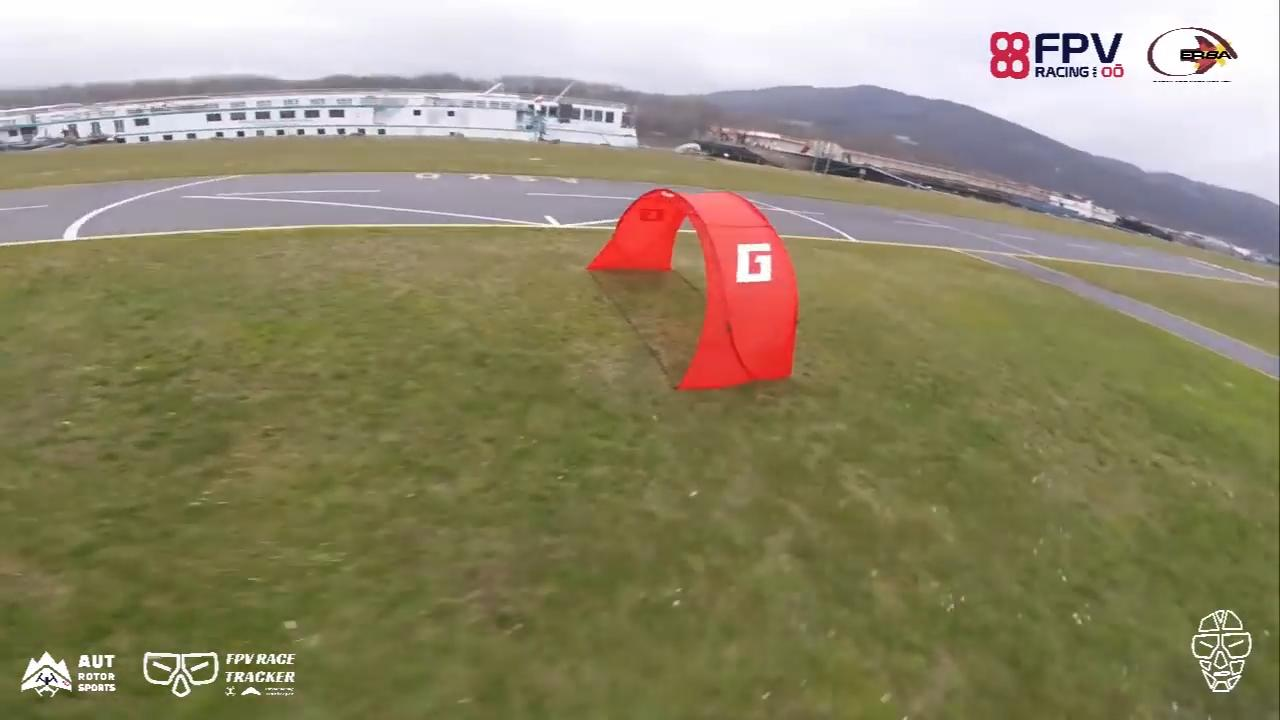gate: (589, 186, 797, 395)
